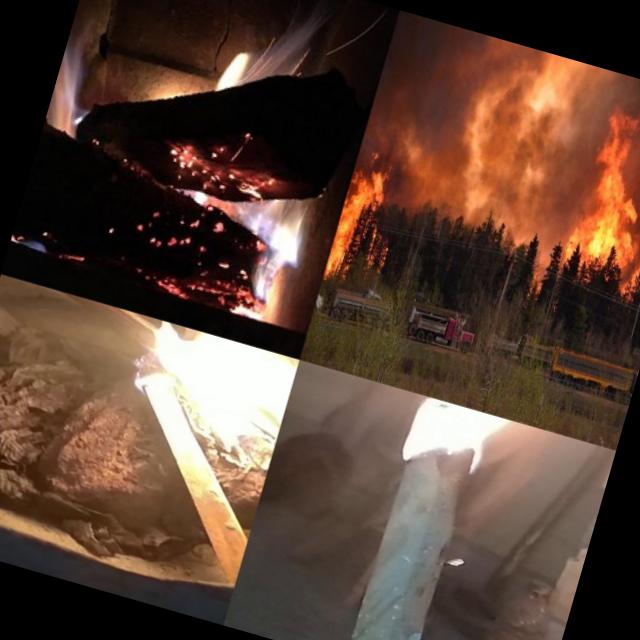fire: (87, 310, 299, 486), (368, 383, 584, 492), (550, 103, 640, 318), (323, 142, 416, 290), (218, 179, 316, 309), (229, 0, 321, 103), (44, 22, 113, 132)
smoke: (362, 10, 544, 183), (506, 51, 613, 202), (402, 157, 574, 250), (605, 71, 640, 126)
